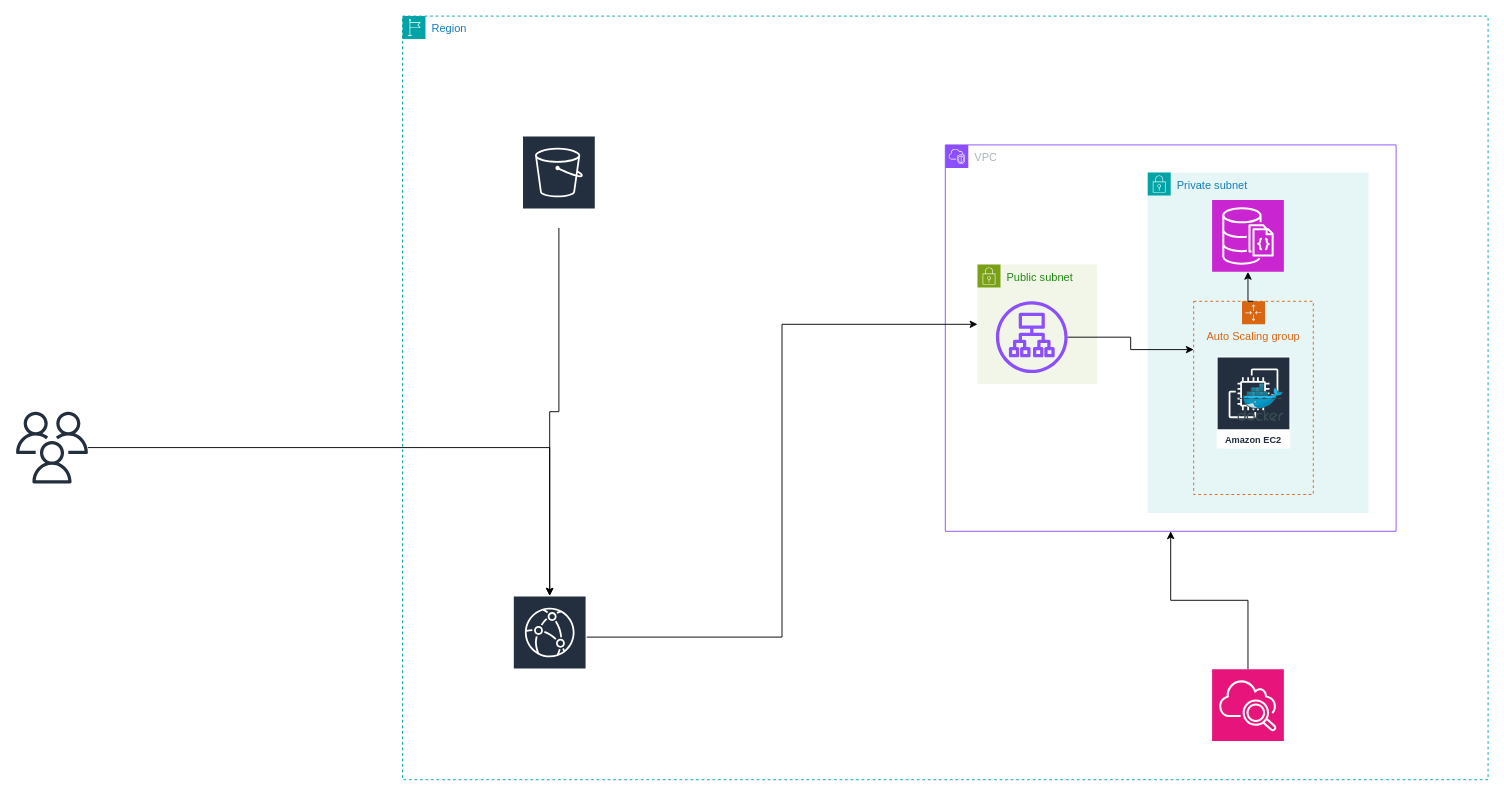
Image size: 1504x796. Some labels were removed from this diagram. Each missing label, with the centre of its shape:
Amazon Cloudfront: the point at 549,636
Amazon S3: the point at 558,181
